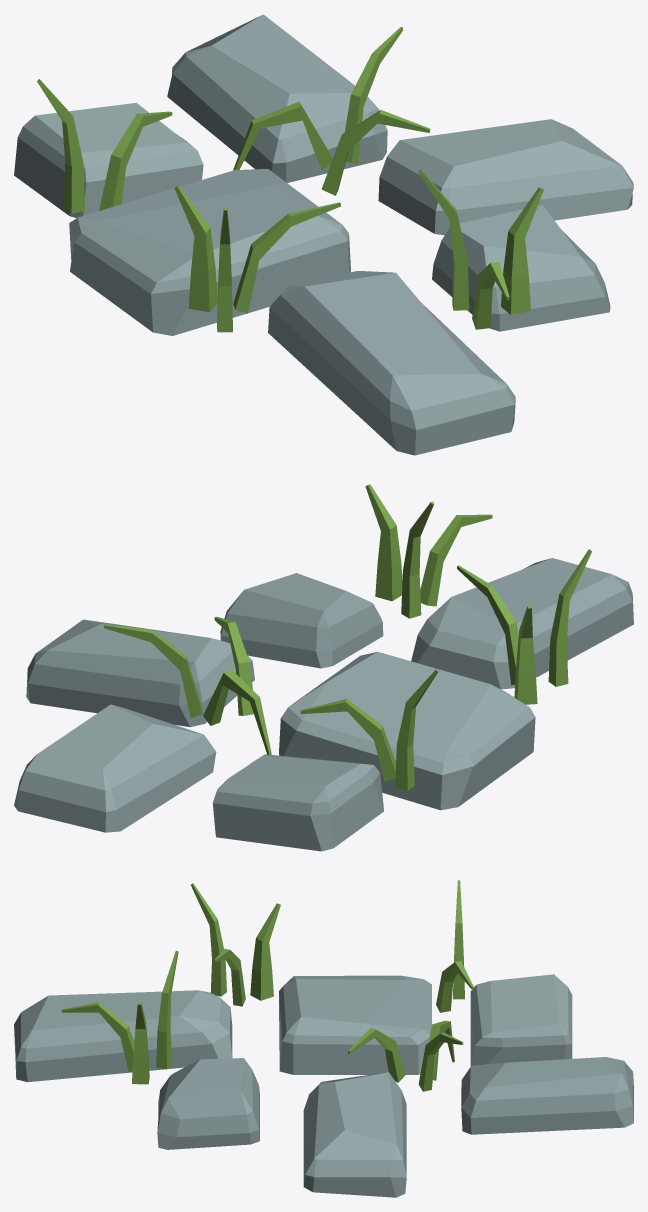
File: herbe4.fbx
3 renders of one model, top to bottom at view 1: azimuth 30°, elevation 25°; view 2: azimuth 150°, elevation 25°; view 3: azimuth 270°, elevation 25°, orthographic. The views are drawn at different scales.
Visible parts, largest first — view 1: pCube76, pCube72, pCube74, pCube77, pCube73, pCube75, pCube82, pCube83, pCube80, pCube87, pCube88, pCube79 (+5 smaller); view 2: pCube72, pCube77, pCube76, pCube74, pCube73, pCube75, pCube83, pCube81, pCube84, pCube85, pCube87, pCube88 (+5 smaller); view 3: pCube76, pCube72, pCube77, pCube74, pCube73, pCube75, pCube82, pCube85, pCube81, pCube83, pCube84, pCube79 (+5 smaller).
Boxes of the visible parts, x1=… form: pCube76: x1=268, y1=271, x2=515, y2=455; pCube72: x1=69, y1=169, x2=350, y2=335; pCube74: x1=378, y1=119, x2=633, y2=235; pCube77: x1=167, y1=14, x2=387, y2=182; pCube73: x1=14, y1=103, x2=203, y2=217; pCube75: x1=432, y1=205, x2=610, y2=331; pCube82: x1=174, y1=185, x2=217, y2=312; pCube83: x1=501, y1=187, x2=543, y2=314; pCube80: x1=233, y1=202, x2=340, y2=313; pCube87: x1=37, y1=79, x2=85, y2=213; pCube88: x1=99, y1=111, x2=172, y2=210; pCube79: x1=321, y1=110, x2=430, y2=195; pCube72: x1=279, y1=651, x2=535, y2=810; pCube77: x1=14, y1=704, x2=216, y2=832; pCube76: x1=411, y1=558, x2=633, y2=689; pCube74: x1=26, y1=619, x2=254, y2=727; pCube73: x1=212, y1=754, x2=383, y2=851; pCube75: x1=220, y1=573, x2=383, y2=668; pCube83: x1=365, y1=484, x2=402, y2=601; pCube81: x1=548, y1=549, x2=591, y2=686; pCube84: x1=420, y1=514, x2=492, y2=606; pCube85: x1=401, y1=501, x2=433, y2=618; pCube87: x1=395, y1=669, x2=438, y2=790; pCube88: x1=300, y1=699, x2=395, y2=781; pCube76: x1=14, y1=990, x2=232, y2=1082; pCube72: x1=279, y1=975, x2=431, y2=1074; pCube77: x1=461, y1=1057, x2=633, y2=1134; pCube74: x1=303, y1=1072, x2=406, y2=1197; pCube73: x1=470, y1=974, x2=572, y2=1066; pCube75: x1=157, y1=1058, x2=259, y2=1149; pCube82: x1=250, y1=903, x2=280, y2=1000; pCube85: x1=156, y1=950, x2=178, y2=1069; pCube81: x1=191, y1=883, x2=226, y2=996; pCube83: x1=132, y1=1002, x2=149, y2=1084; pCube84: x1=61, y1=1002, x2=134, y2=1072; pCube79: x1=348, y1=1027, x2=405, y2=1082.
Bounding box in the file's own units: 94.62 × 32.93 × 135.
